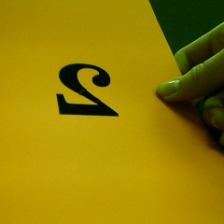orange2: (55, 60, 129, 123)
